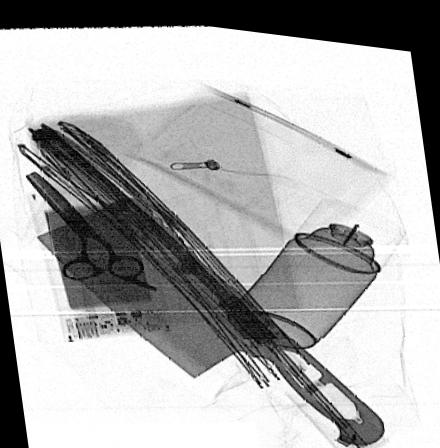Knife: (33, 194, 387, 439)
Powerbank: (41, 200, 175, 341)
Scissors: (23, 169, 165, 290)
Sprayer: (229, 189, 408, 341)
